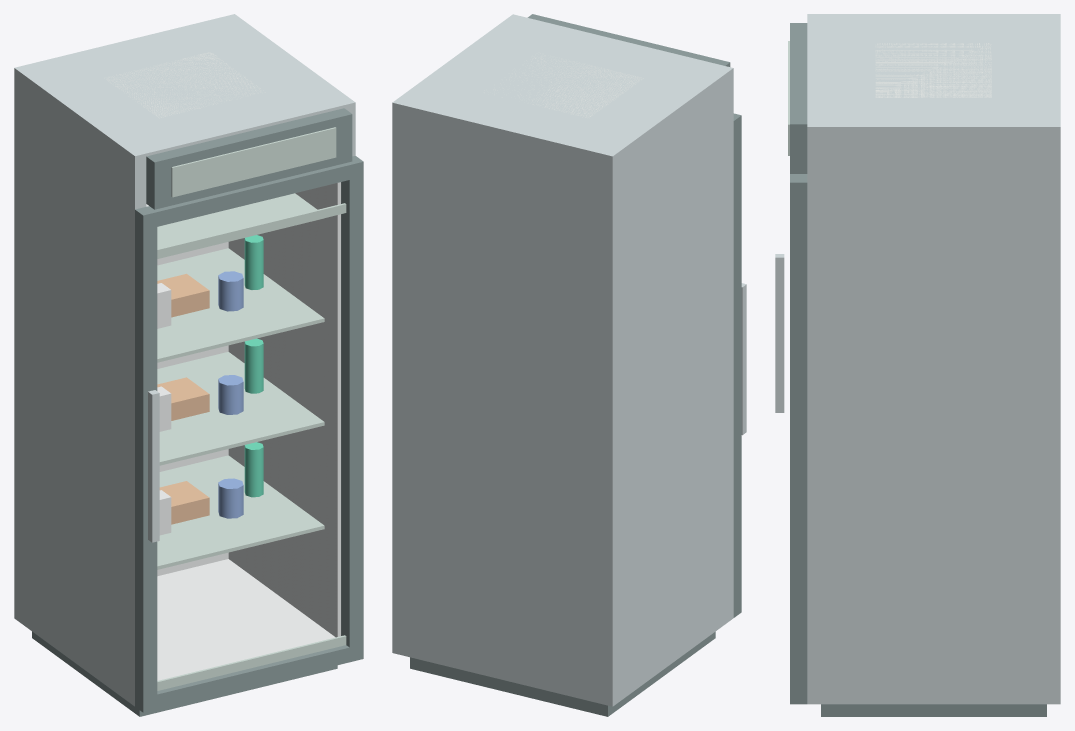
The model's file is fridgeCommercial.glb.
The picture shows the model from 3 angles, left to right: view 1: azimuth 30°, elevation 25°; view 2: azimuth 150°, elevation 25°; view 3: azimuth 270°, elevation 25°; orthographic projection. The views are drawn at different scales.
Parts seen in each view (by area): view 1: fridgeCommercial, anim:door; view 2: fridgeCommercial, anim:door; view 3: fridgeCommercial, anim:door.
Part boxes in pixels (x1,y1,x2,y2): fridgeCommercial: (14,14,355,716); anim:door: (135,156,363,712); fridgeCommercial: (392,14,733,716); anim:door: (733,113,746,617); fridgeCommercial: (788,14,1060,716); anim:door: (775,174,807,704).
Bounding box in the file's own units: 0.39 × 0.96 × 0.4165.
